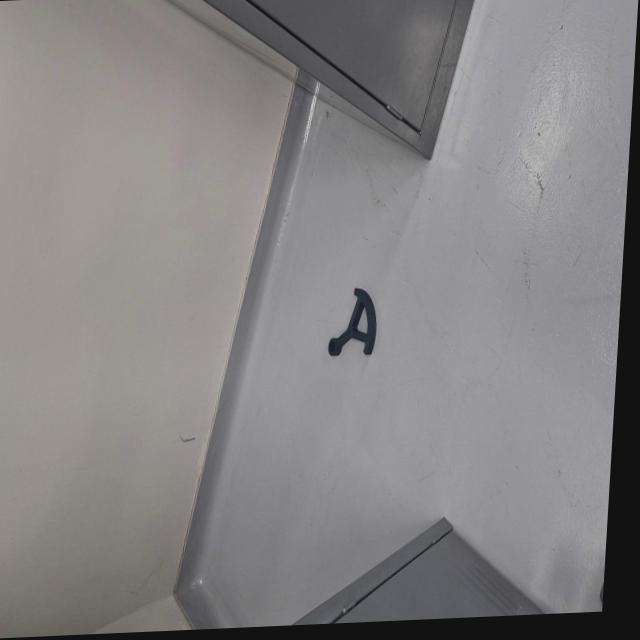haptic: (327, 285, 379, 357)
